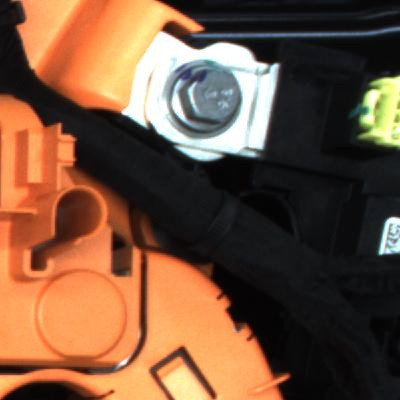nut_b: (154, 57, 286, 163)
